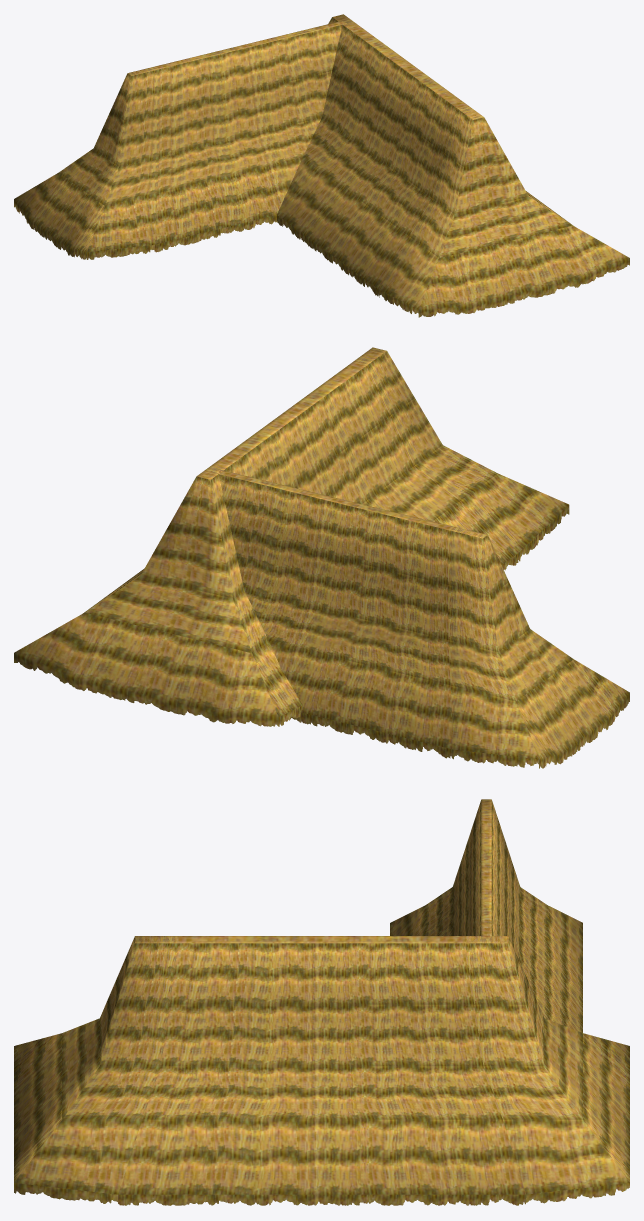
Rendered from roof_forge.dae.
3 renders of one model, top to bottom at view 1: azimuth 30°, elevation 25°; view 2: azimuth 150°, elevation 25°; view 3: azimuth 270°, elevation 25°, orthographic. The views are drawn at different scales.
Parts seen in each view (by area): view 1: forge.001; view 2: forge.001; view 3: forge.001.
Boxes of the visible parts, left/top/right/bottom form: forge.001: left=14, top=14, right=629, bottom=317; forge.001: left=14, top=347, right=629, bottom=768; forge.001: left=14, top=799, right=629, bottom=1205.
Size of the model in its own units: 18.72 by 18.74 by 6.67.
